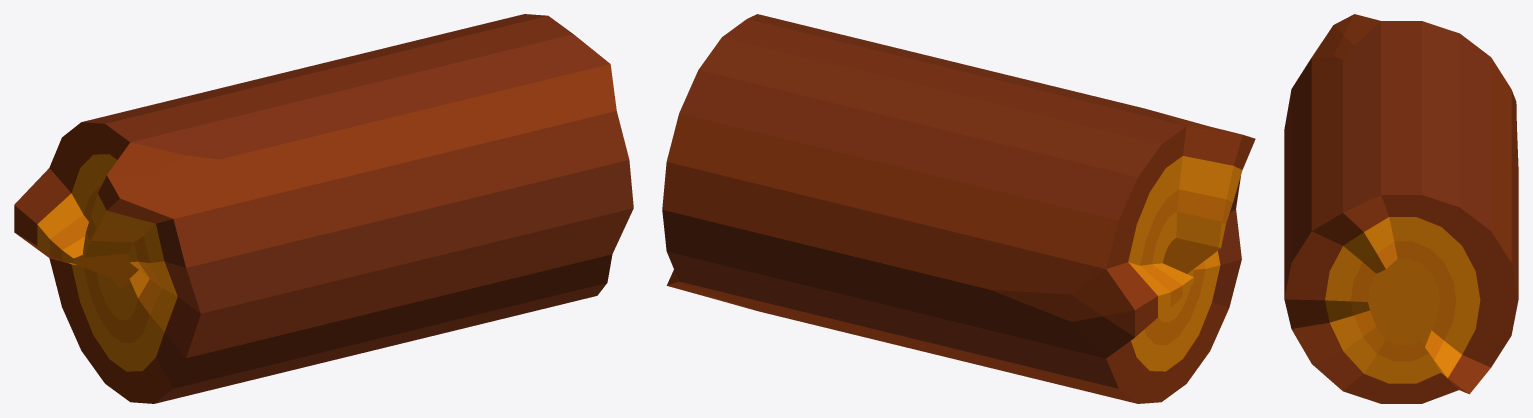
Rendered from Broken log_3.fbx.
The picture shows the model from 3 angles, left to right: view 1: azimuth 30°, elevation 25°; view 2: azimuth 150°, elevation 25°; view 3: azimuth 270°, elevation 25°; orthographic projection. The views are drawn at different scales.
Visible parts, largest first — view 1: Circle.018; view 2: Circle.018; view 3: Circle.018.
Part boxes in pixels (<box>): Circle.018: <box>14,14,633,403</box>; Circle.018: <box>662,14,1255,403</box>; Circle.018: <box>1284,14,1518,403</box>.
Size of the model in its own units: 51.66 by 25.19 by 25.57.
